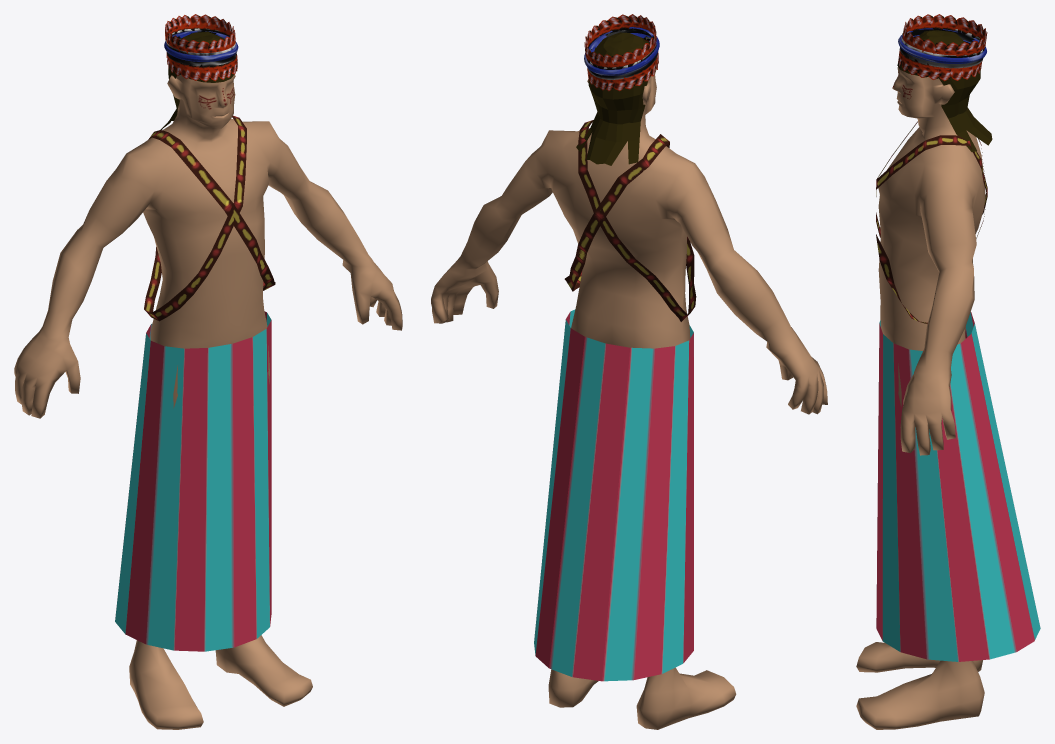
The model's file is hombre-shuar.glb.
3 renders of one model, left to right at view 1: azimuth 30°, elevation 25°; view 2: azimuth 150°, elevation 25°; view 3: azimuth 270°, elevation 25°, orthographic. The views are drawn at different scales.
Visible parts, largest first — view 1: Low Poly Characte.000, Cylinder.003, Cylinder.001, Cylinder.002, Cylinder, Torus.001, Sphere; view 2: Cylinder.003, Low Poly Characte.000, Sphere, Cylinder.001, Cylinder.002, Torus.001; view 3: Cylinder.003, Low Poly Characte.000, Sphere, Cylinder.001, Cylinder, Torus.001, Cylinder.002.
Part boxes in pixels (x1,y1,x2,y2): Low Poly Characte.000: [14, 74, 402, 729]; Cylinder.003: [115, 311, 271, 651]; Cylinder.001: [144, 115, 246, 321]; Cylinder.002: [148, 130, 275, 290]; Cylinder: [166, 28, 236, 66]; Torus.001: [164, 30, 238, 61]; Sphere: [160, 31, 234, 129]; Cylinder.003: [534, 309, 693, 681]; Low Poly Characte.000: [431, 68, 827, 729]; Sphere: [576, 32, 655, 165]; Cylinder.001: [578, 120, 696, 321]; Cylinder.002: [564, 134, 669, 291]; Torus.001: [584, 27, 659, 75]; Cylinder.003: [876, 312, 1040, 661]; Low Poly Characte.000: [856, 67, 985, 729]; Sphere: [897, 30, 992, 152]; Cylinder.001: [876, 135, 987, 237]; Cylinder: [899, 28, 984, 68]; Torus.001: [898, 28, 986, 63]; Cylinder.002: [876, 121, 987, 323].
Size of the model in its own units: 3.58 by 6.06 by 1.51.
Materials: 29 (28 with a texture image).
